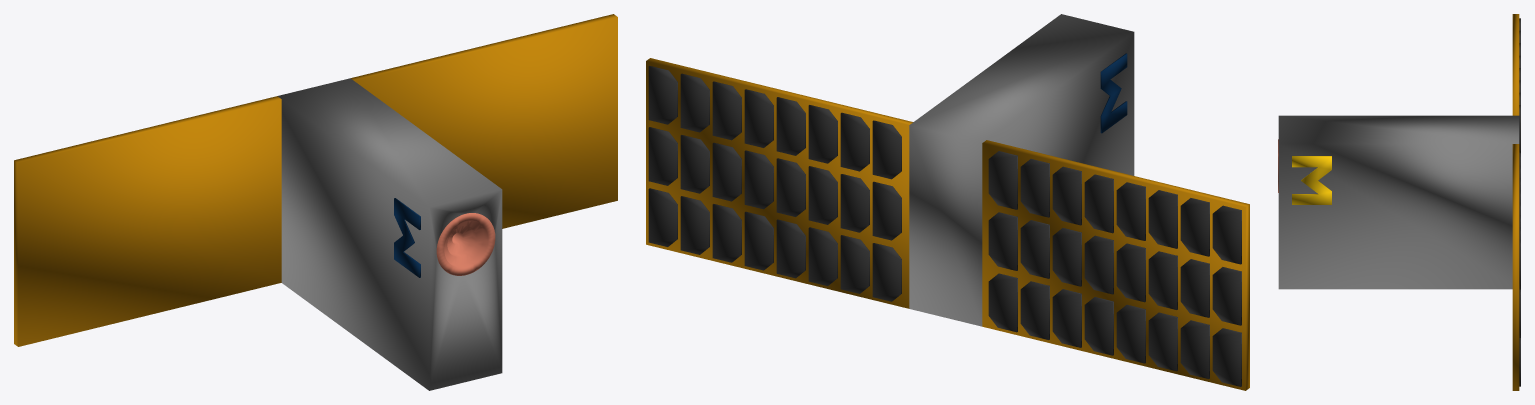
File: CubeSat.obj
3 views of the same model, side by side, from view 1: azimuth 30°, elevation 25°; view 2: azimuth 150°, elevation 25°; view 3: azimuth 270°, elevation 25° (orthographic). The views are drawn at different scales.
Parts seen in each view (by area): view 1: Part__Feature013, Part__Feature, Part__Feature034, Part__Feature001, Part__Feature020; view 2: Part__Feature, Part__Feature013, Part__Feature034, Part__Feature042, Part__Feature054, Part__Feature028, Part__Feature041, Part__Feature032, Part__Feature051, Part__Feature030, Part__Feature025, Part__Feature026 (+40 smaller); view 3: Part__Feature, Part__Feature034, Part__Feature015, Part__Feature013.
Boxes of the visible parts, bbox=[...] form: Part__Feature013: bbox=[14, 96, 281, 346]; Part__Feature: bbox=[277, 78, 502, 390]; Part__Feature034: bbox=[350, 14, 617, 228]; Part__Feature001: bbox=[436, 213, 495, 275]; Part__Feature020: bbox=[394, 198, 420, 277]; Part__Feature: bbox=[909, 14, 1134, 326]; Part__Feature013: bbox=[982, 140, 1249, 390]; Part__Feature034: bbox=[646, 58, 913, 308]; Part__Feature042: bbox=[648, 188, 677, 246]; Part__Feature054: bbox=[776, 219, 805, 278]; Part__Feature028: bbox=[744, 150, 773, 209]; Part__Feature041: bbox=[872, 120, 901, 179]; Part__Feature032: bbox=[744, 89, 773, 147]; Part__Feature051: bbox=[808, 227, 837, 285]; Part__Feature030: bbox=[680, 73, 709, 132]; Part__Feature025: bbox=[648, 127, 677, 185]; Part__Feature026: bbox=[648, 66, 677, 124]; Part__Feature: bbox=[1278, 115, 1519, 289]; Part__Feature034: bbox=[1512, 144, 1519, 390]; Part__Feature015: bbox=[1292, 156, 1331, 204]; Part__Feature013: bbox=[1512, 14, 1519, 115].
Size of the model in its own units: 82 by 24 by 36.33.
